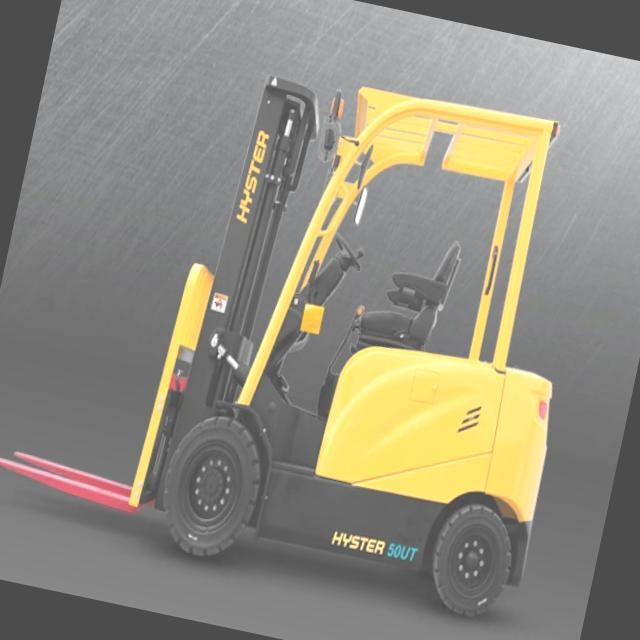forklift: (96, 20, 639, 640)
